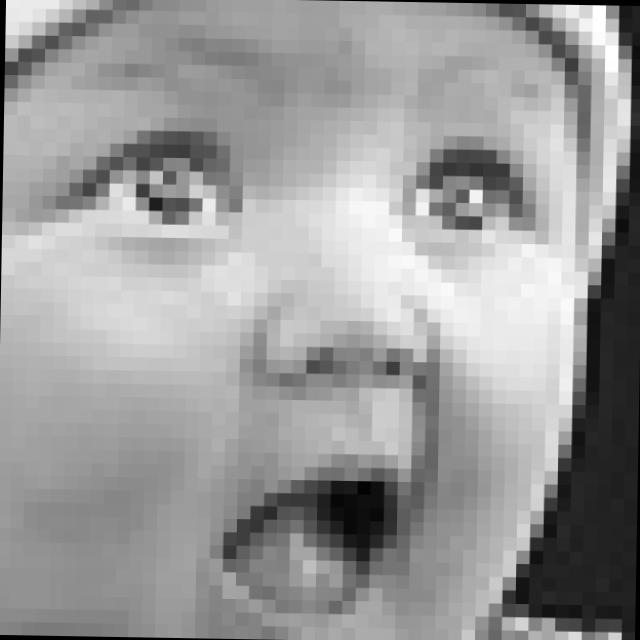surprise: (41, 47, 550, 640)
